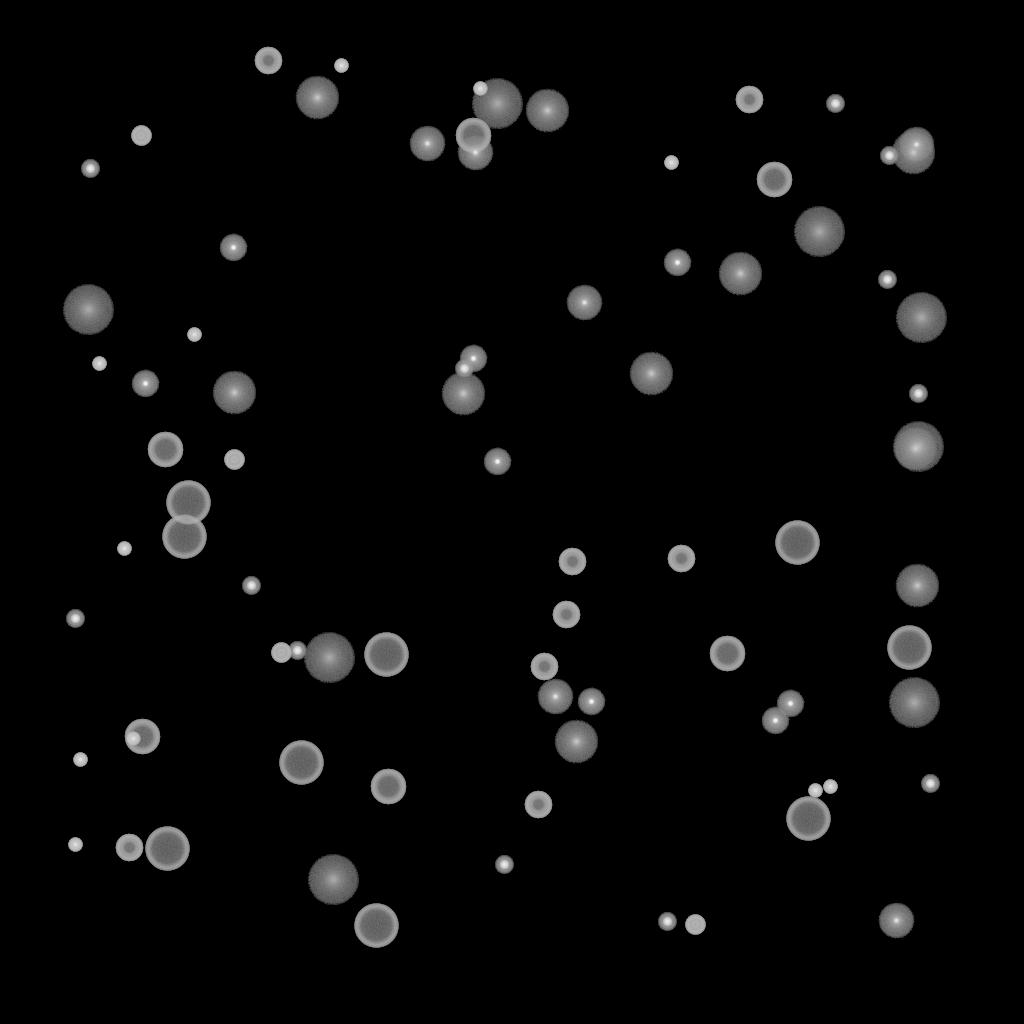depth:-10: (483, 448, 511, 476), (459, 345, 487, 373), (131, 370, 159, 398), (761, 707, 789, 735), (219, 234, 247, 262), (577, 688, 605, 716), (663, 249, 691, 277), (776, 690, 804, 718)
depth:-20: (66, 610, 84, 628), (288, 642, 306, 660), (658, 913, 676, 931), (878, 271, 896, 289), (880, 147, 898, 165), (81, 160, 99, 178), (909, 385, 927, 403), (495, 856, 513, 874), (826, 95, 844, 113), (455, 360, 473, 378), (921, 775, 939, 793), (242, 577, 260, 595)
depth:-30: (473, 82, 487, 96), (117, 542, 131, 556), (187, 328, 201, 342), (808, 784, 822, 798), (664, 156, 678, 170), (126, 732, 140, 746), (823, 780, 837, 794), (334, 59, 348, 73), (92, 357, 106, 371), (73, 753, 87, 767), (68, 838, 82, 852)
depth:-40: (224, 450, 244, 470), (271, 643, 291, 663), (131, 126, 151, 146), (685, 915, 705, 935)
depth:-50: (115, 834, 143, 862), (552, 601, 580, 629), (530, 653, 558, 681), (735, 86, 763, 114), (254, 47, 282, 75), (558, 548, 586, 576), (524, 791, 552, 819), (667, 545, 695, 573)
depth:-60: (455, 118, 491, 154), (370, 769, 406, 805), (756, 162, 792, 198), (709, 636, 745, 672), (147, 432, 183, 468), (124, 719, 160, 755)
depth:-70: (166, 481, 210, 525), (775, 521, 819, 565), (162, 515, 206, 559), (786, 797, 830, 841), (145, 827, 189, 871), (364, 633, 408, 677), (279, 741, 323, 785), (354, 904, 398, 948), (887, 626, 931, 670)
depth:0: (898, 127, 934, 163), (457, 135, 493, 171), (409, 126, 445, 162), (566, 285, 602, 321), (537, 679, 573, 715), (878, 903, 914, 939)
depth:10: (629, 352, 673, 396), (525, 89, 569, 133), (895, 564, 939, 608), (295, 76, 339, 120), (212, 371, 256, 415), (893, 427, 937, 471), (441, 372, 485, 416), (554, 720, 598, 764), (718, 252, 762, 296), (891, 131, 935, 175)
depth:20: (888, 678, 940, 728), (793, 207, 845, 257), (895, 293, 947, 343), (471, 79, 523, 129), (303, 633, 355, 683), (307, 855, 359, 905), (892, 422, 944, 472), (62, 285, 114, 335)
